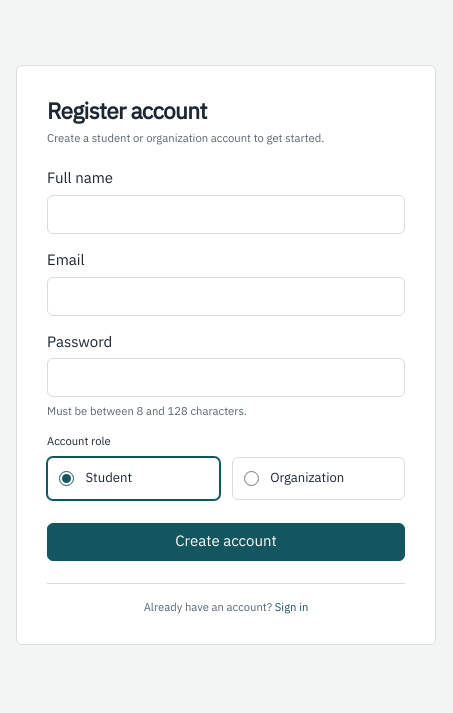
Test: RegisterPage Component › displays plain error when email is already registered
Type "Jane Doe" into the field labelled "Full name" at (226, 214), box [47, 195, 405, 234]
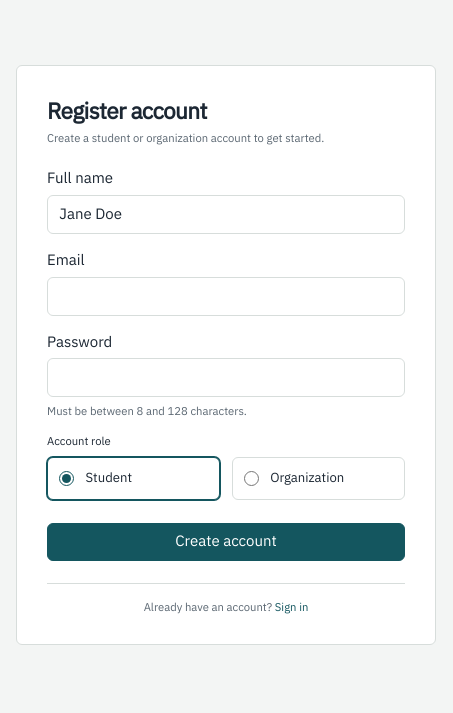
Type "exists@example.com" into the field labelled "Email" at (226, 296), box [47, 276, 405, 316]
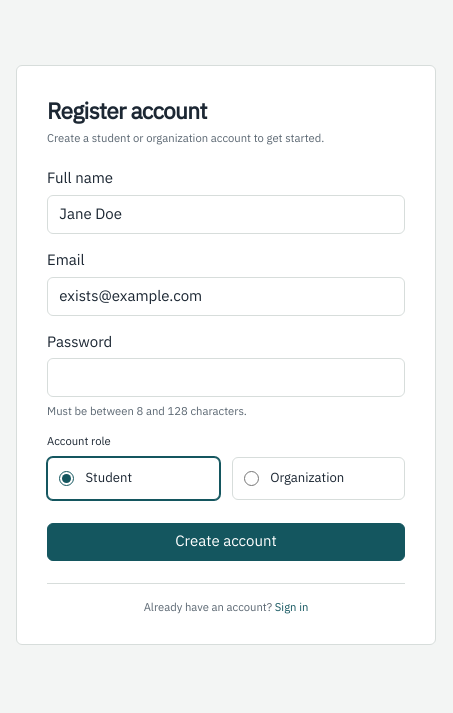
Type "Password123!" into the password field labelled "Password" at (226, 378), box [47, 358, 405, 397]
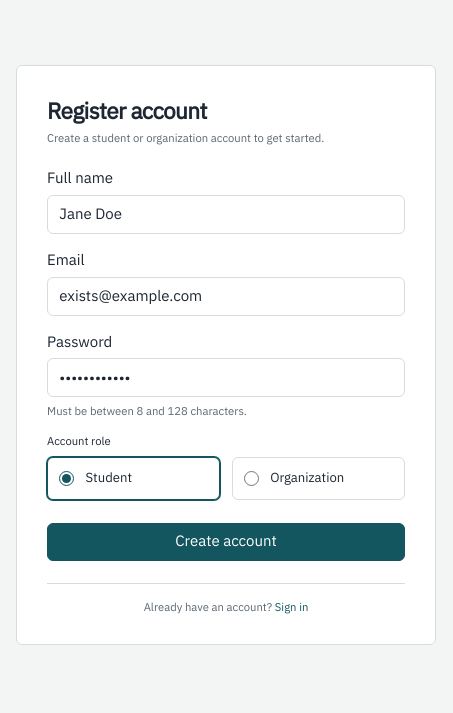
Click the button "Create account" at (226, 542), box [47, 523, 405, 560]
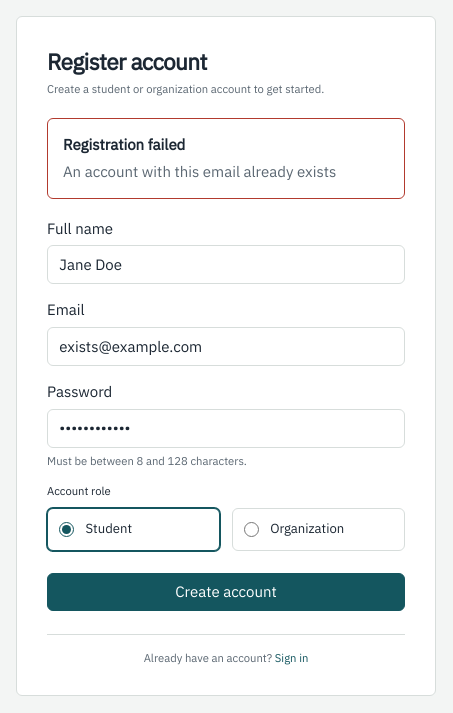
Now the text "An account with this email already exists" is shown, box [63, 162, 336, 180]
